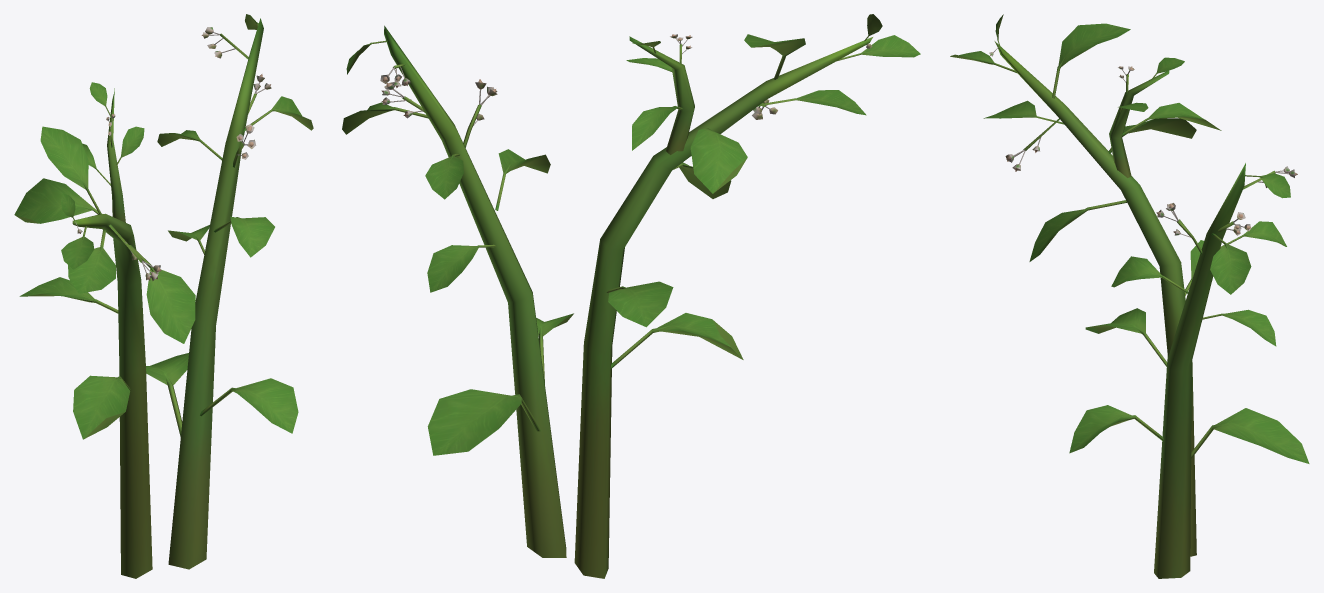
File: PotatoesPlant_06_Ripening.fbx
The picture shows the model from 3 angles, left to right: view 1: azimuth 30°, elevation 25°; view 2: azimuth 150°, elevation 25°; view 3: azimuth 270°, elevation 25°; orthographic projection. The views are drawn at different scales.
Visible parts, largest first — view 1: PotatoesPlant_06_Ripening; view 2: PotatoesPlant_06_Ripening; view 3: PotatoesPlant_06_Ripening.
Part boxes in pixels (x1,y1,x2,y2): PotatoesPlant_06_Ripening: [14, 14, 313, 578]; PotatoesPlant_06_Ripening: [342, 14, 920, 578]; PotatoesPlant_06_Ripening: [950, 14, 1309, 578].
Size of the model in its own units: 68 by 84.28 by 57.52.
